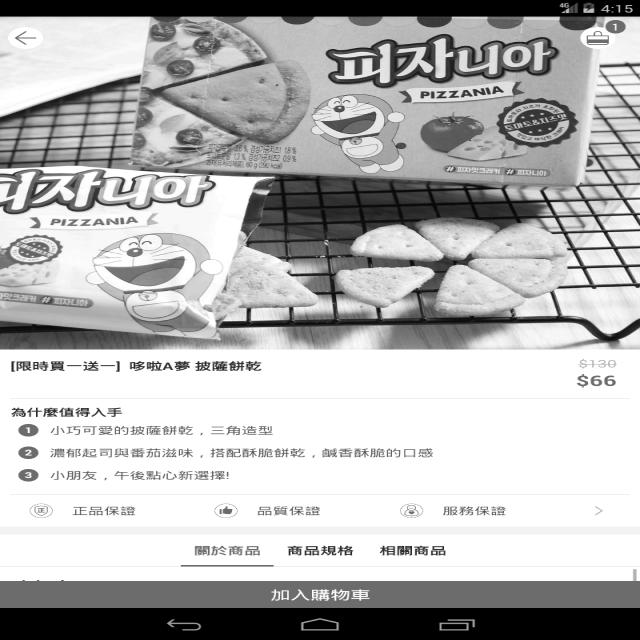CheckBox: (8, 576, 629, 612)
ImageButton: (4, 22, 50, 52), (578, 21, 626, 48)
ImageView: (74, 32, 576, 348), (23, 500, 68, 522), (386, 499, 431, 519), (204, 499, 242, 521)
TextView: (45, 442, 442, 462), (6, 355, 268, 379), (570, 354, 624, 388), (11, 403, 132, 417), (185, 538, 272, 557), (370, 539, 453, 557)
